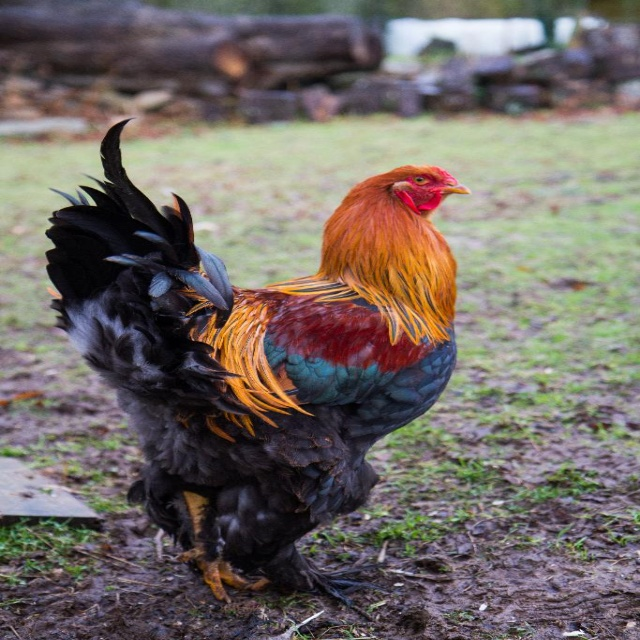Chicken: (61, 139, 483, 609)
